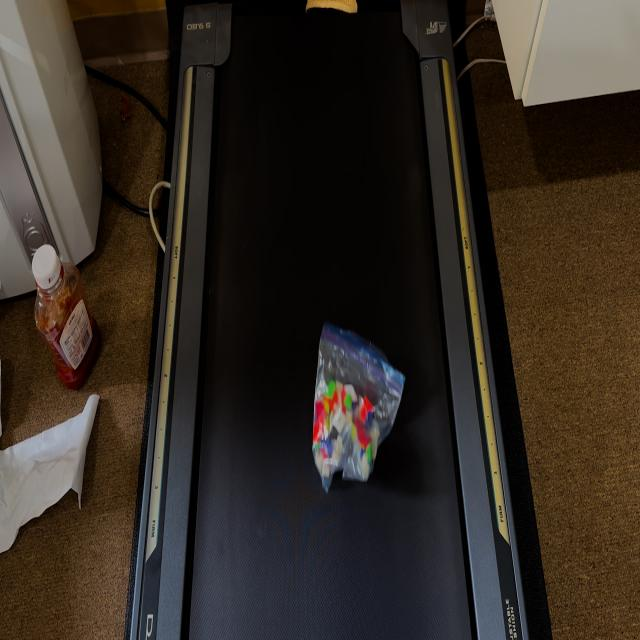Trash: (309, 320, 408, 500), (298, 0, 359, 23)
